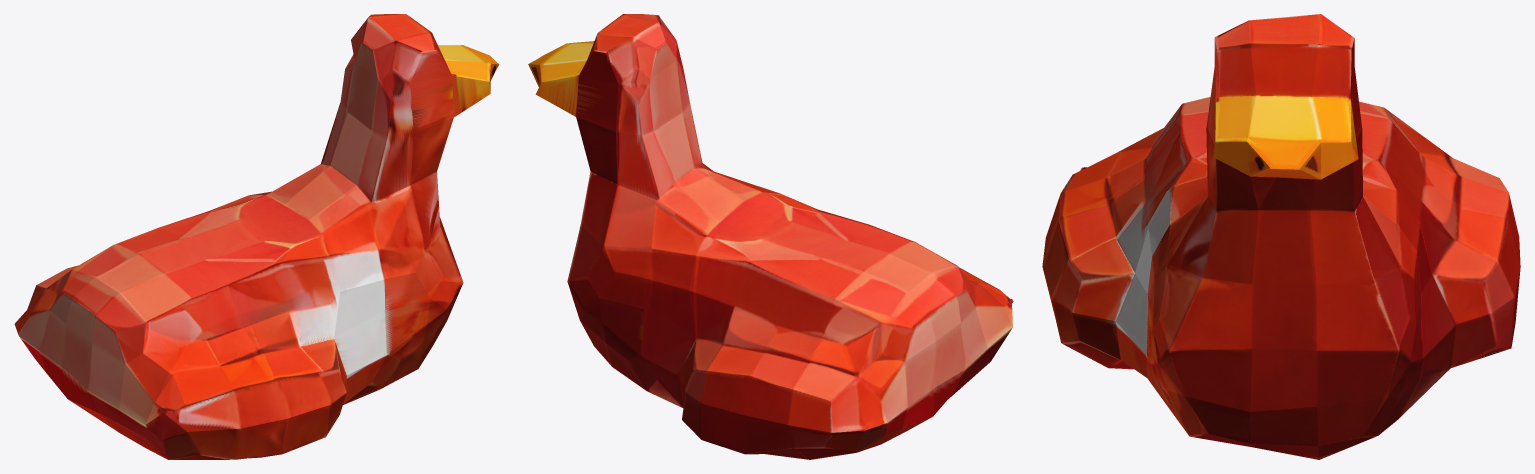
File: swiss.glb
3 views of the same model, side by side, from view 1: azimuth 30°, elevation 25°; view 2: azimuth 150°, elevation 25°; view 3: azimuth 270°, elevation 25° (orthographic). The views are drawn at different scales.
Visible parts, largest first — view 1: mvadapter_node_i2_winw; view 2: mvadapter_node_i2_winw; view 3: mvadapter_node_i2_winw.
Boxes of the visible parts, bbox=[...] form: mvadapter_node_i2_winw: bbox=[14, 14, 499, 459]; mvadapter_node_i2_winw: bbox=[528, 14, 1013, 459]; mvadapter_node_i2_winw: bbox=[1042, 14, 1520, 459].
Size of the model in its own units: 0.9004 by 0.6987 by 0.6634.
Materials: 1 (1 with a texture image).
